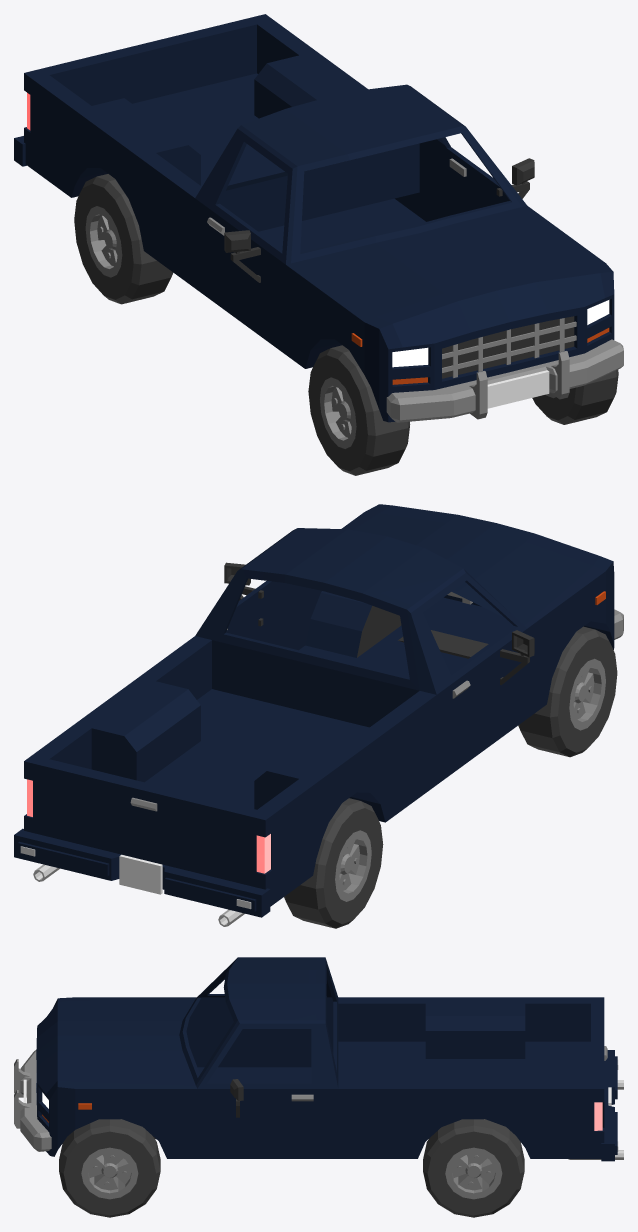
Rendered from pickupw.gltf.
3 views of the same model, one above another, from view 1: azimuth 30°, elevation 25°; view 2: azimuth 150°, elevation 25°; view 3: azimuth 270°, elevation 25° (orthographic). The views are drawn at different scales.
Visible parts, largest first — view 1: Low Poly American Pickup Truck, FR_1, RR_3, FL_0; view 2: Low Poly American Pickup Truck, FR_1, RR_3; view 3: Low Poly American Pickup Truck, RL_2, FL_0.
Part boxes in pixels (<box>): Low Poly American Pickup Truck: <box>14,14,623,422</box>; FR_1: <box>308,345,410,475</box>; RR_3: <box>74,174,173,304</box>; FL_0: <box>532,370,618,424</box>; Low Poly American Pickup Truck: <box>14,504,623,926</box>; FR_1: <box>518,626,617,757</box>; RR_3: <box>284,798,383,928</box>; Low Poly American Pickup Truck: <box>14,957,623,1161</box>; RL_2: <box>423,1119,524,1217</box>; FL_0: <box>59,1119,160,1217</box>.
Size of the model in its own units: 2.07 by 1.55 by 4.56.
